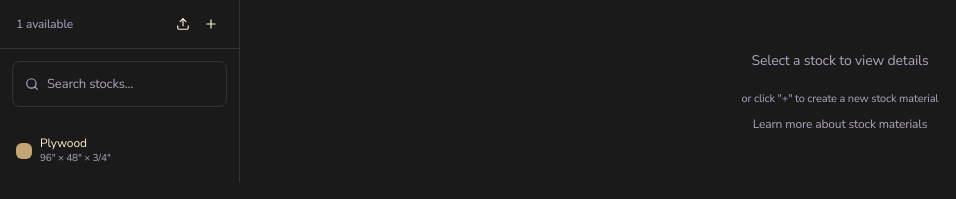
StocksTab › search › clears search with clear button
This screenshot has width=956, height=199.
Type "test" into the field with placeholder "Search stocks..." at (130, 84), box [47, 70, 214, 98]
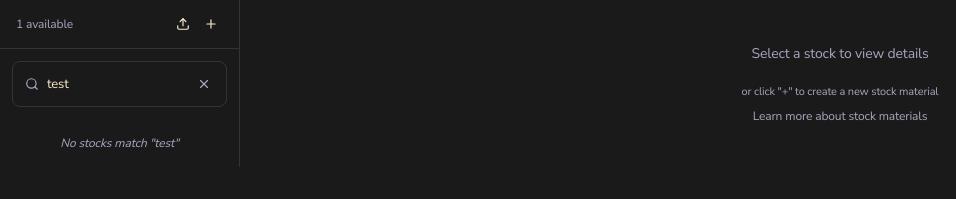
Click the button named "Clear search" at (204, 84), box [194, 74, 214, 94]
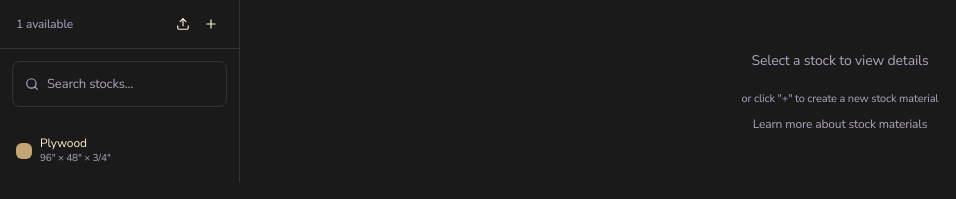
Result: the field with placeholder "Search stocks..." is empty at [47, 70, 214, 98]
